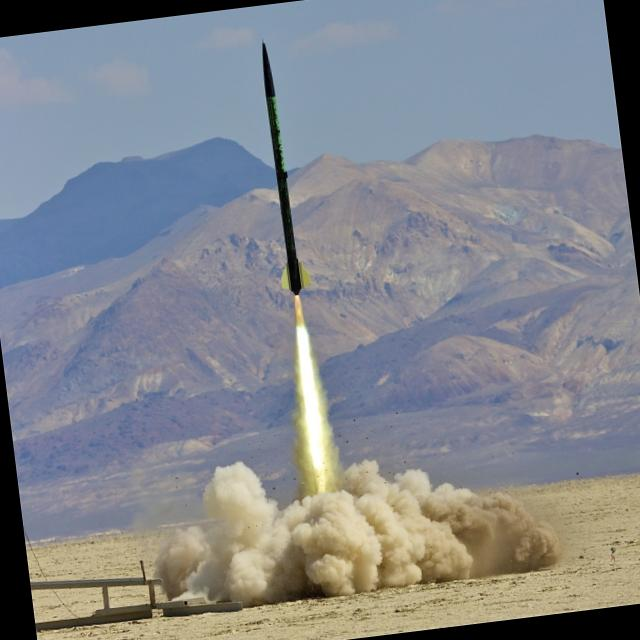rocket: (253, 32, 321, 420)
